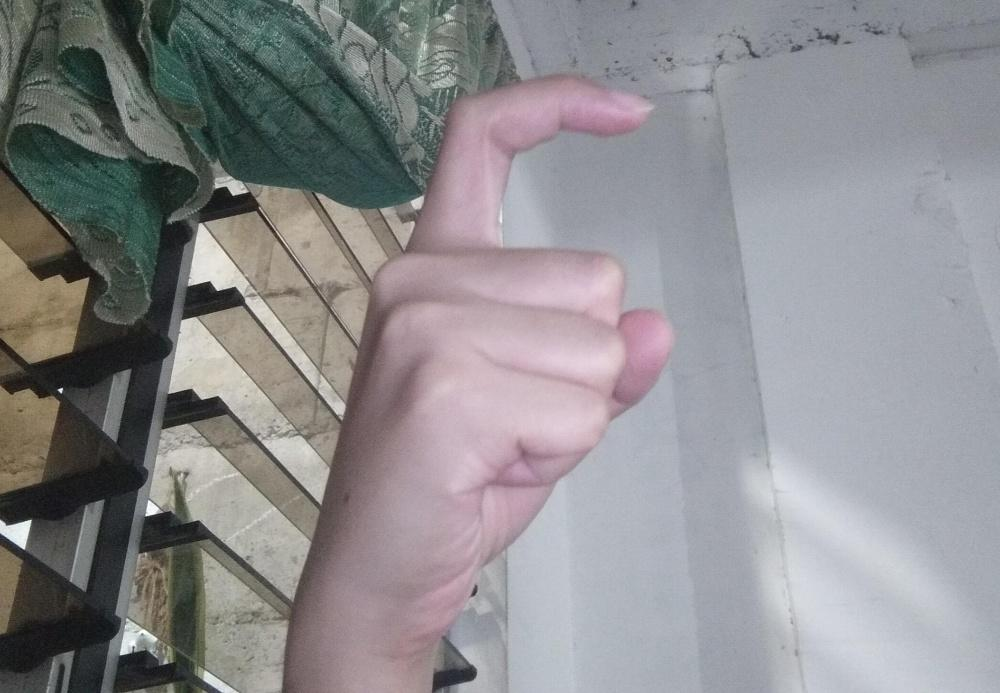x: (294, 70, 676, 659)
